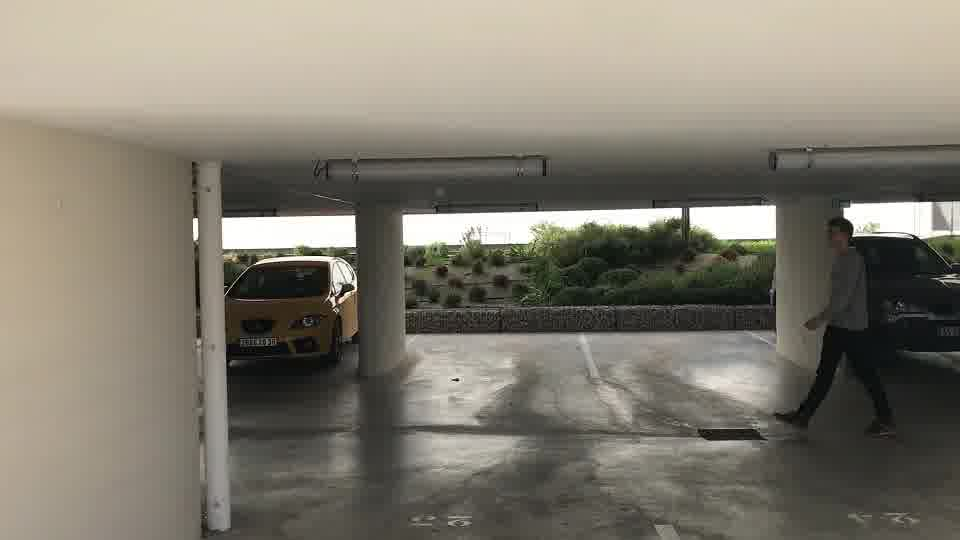jugador: (767, 209, 896, 448)
